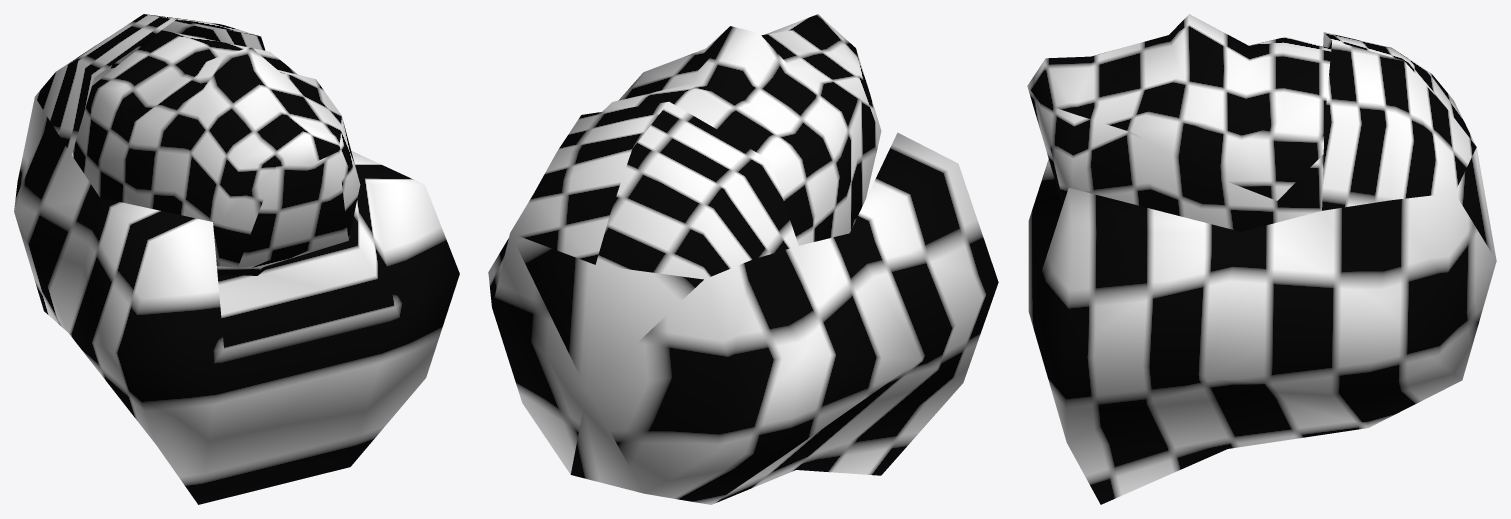
The model's file is infaunhufe10.dae.
3 views of the same model, side by side, from view 1: azimuth 30°, elevation 25°; view 2: azimuth 150°, elevation 25°; view 3: azimuth 270°, elevation 25° (orthographic). The views are drawn at different scales.
Visible parts, largest first — view 1: face; view 2: face; view 3: face.
Part boxes in pixels (x1,y1,x2,y2): face: (14, 14, 459, 504); face: (488, 14, 998, 504); face: (1027, 14, 1496, 504).
Bounding box in the file's own units: 1.27 × 1.41 × 1.48.
1 material, 1 textured.
